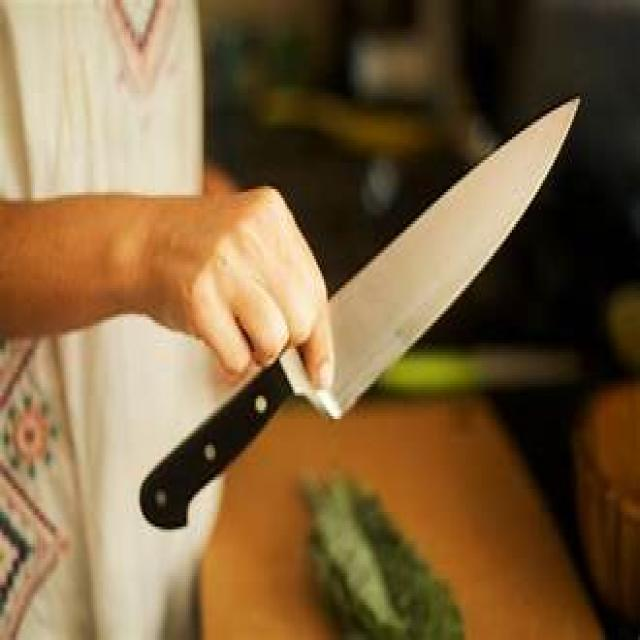Knife: (129, 87, 594, 538)
